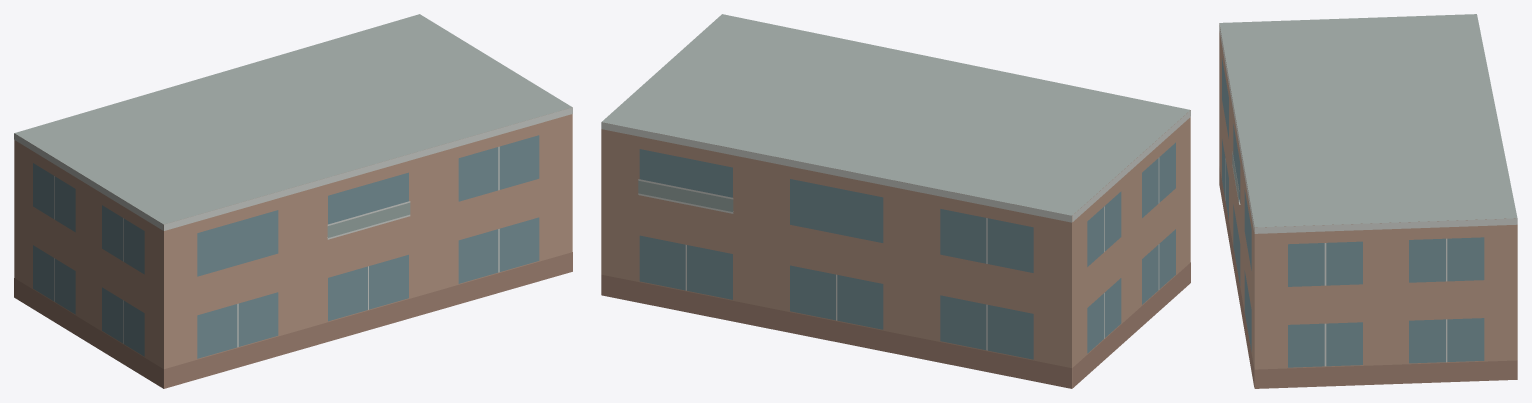
The model's file is survey-upis-32757129.glb.
3 renders of one model, left to right at view 1: azimuth 30°, elevation 25°; view 2: azimuth 150°, elevation 25°; view 3: azimuth 270°, elevation 25°, orthographic. The views are drawn at different scales.
Visible parts, largest first — view 1: survey-upis-32757129.tmp; view 2: survey-upis-32757129.tmp; view 3: survey-upis-32757129.tmp.
Part boxes in pixels (left/top/right/bottom): survey-upis-32757129.tmp: left=14, top=14, right=572, bottom=388; survey-upis-32757129.tmp: left=601, top=14, right=1190, bottom=388; survey-upis-32757129.tmp: left=1219, top=14, right=1517, bottom=388.
Bounding box in the file's own units: 17.31 × 6.1 × 10.22.
